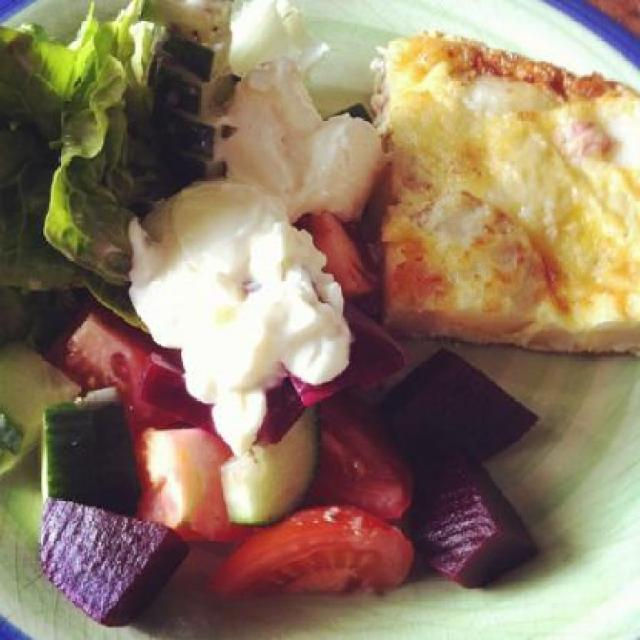Cheese: (352, 32, 638, 354), (112, 172, 357, 451), (204, 58, 380, 231), (218, 0, 324, 65)
